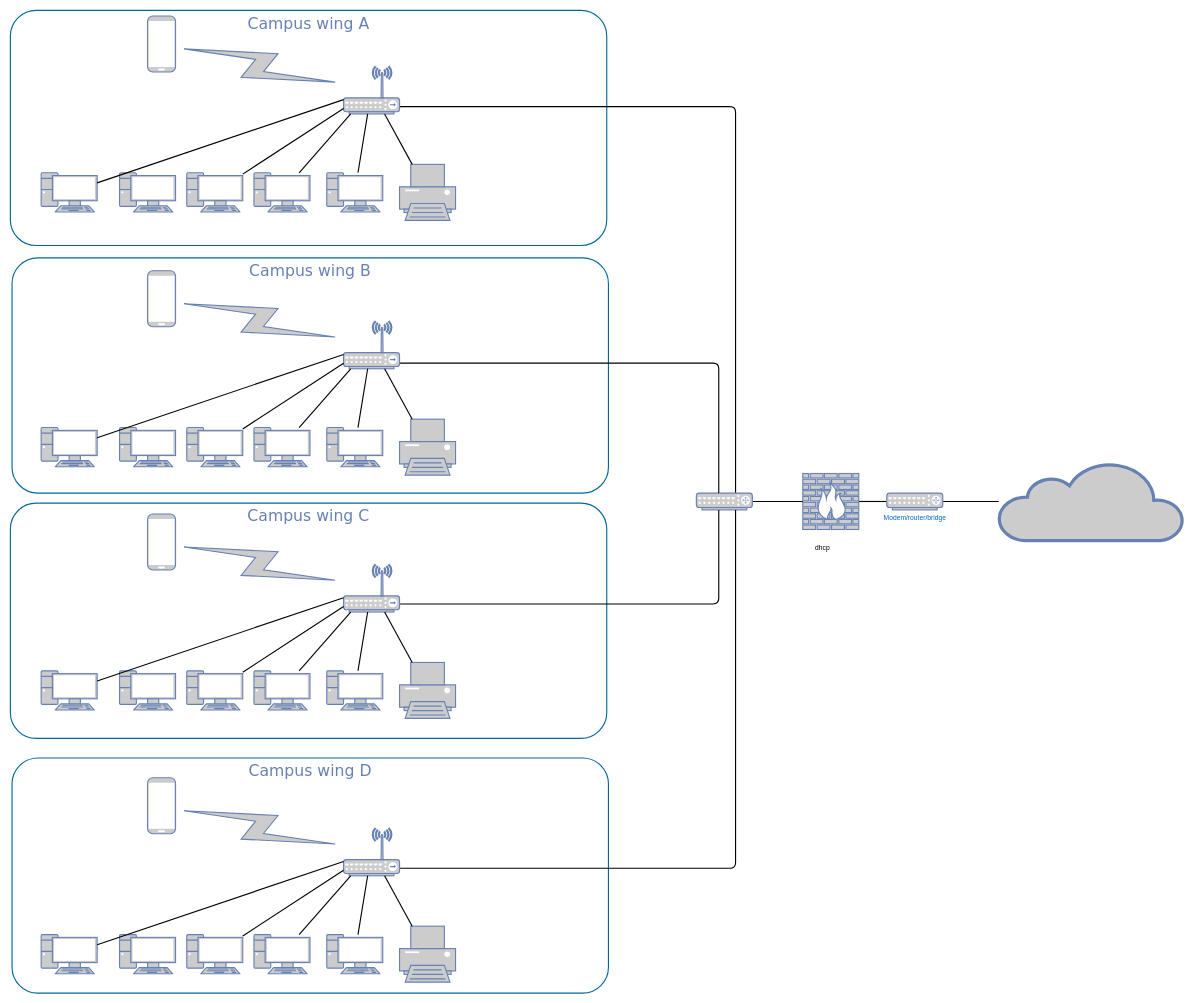
This 1193x1003 diagram has some shape labels left out. Each missing label, with the centre of its shape:
Internet: (x=1091, y=501)
OPNsense: (x=830, y=501)
